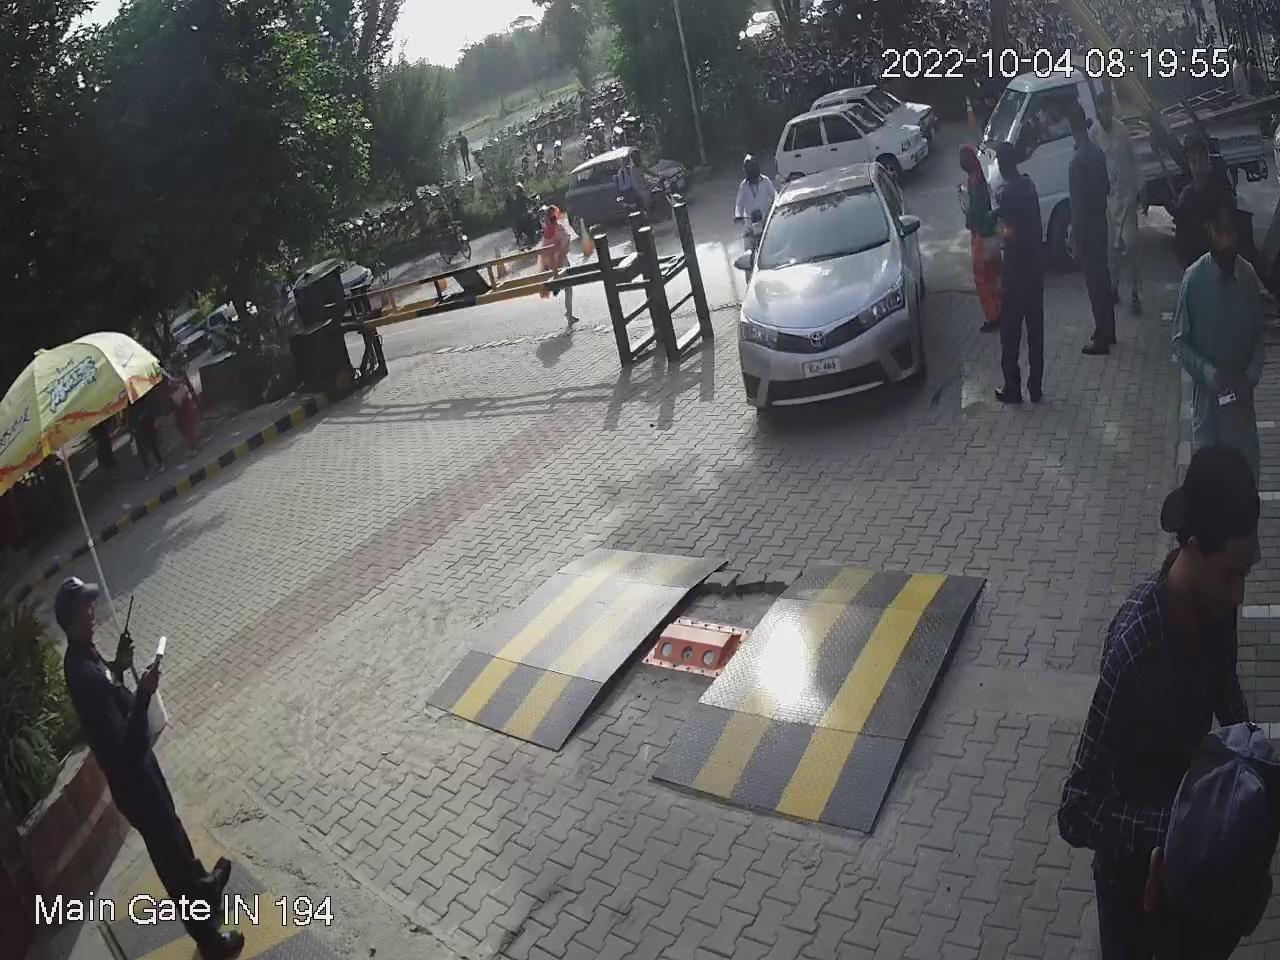windshield: (753, 172, 898, 267)
